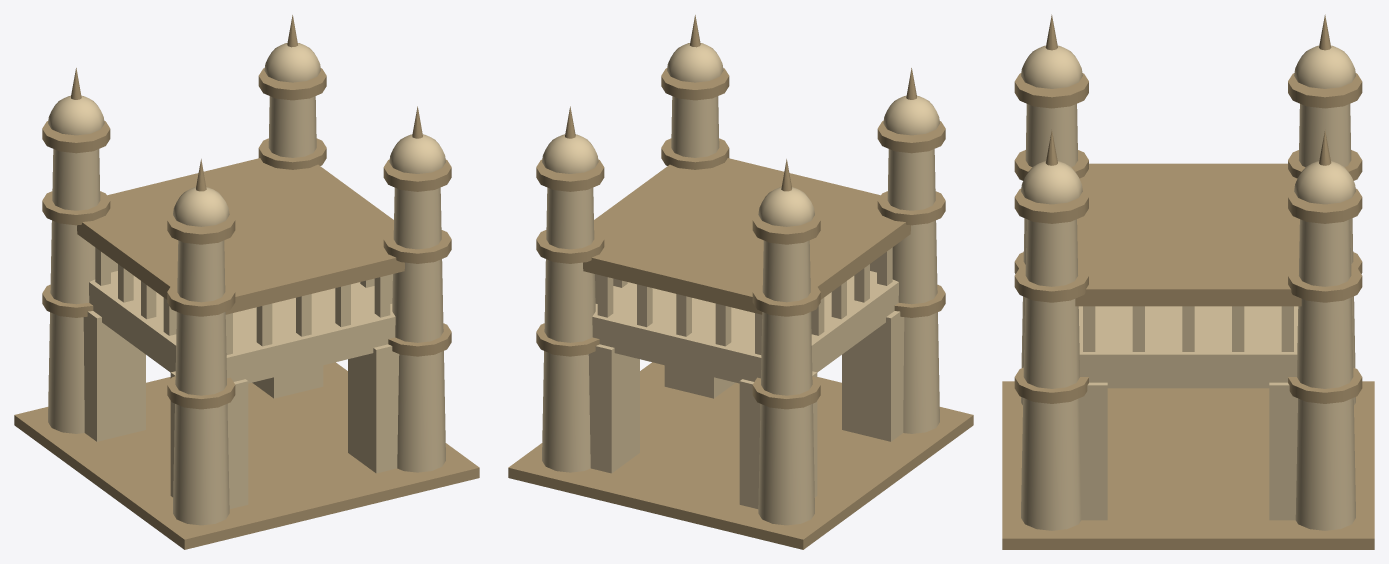
File: charminar.glb
3 renders of one model, left to right at view 1: azimuth 30°, elevation 25°; view 2: azimuth 150°, elevation 25°; view 3: azimuth 270°, elevation 25°, orthographic. The views are drawn at different scales.
Bounding box in the file's own units: 30 × 35.5 × 30.
